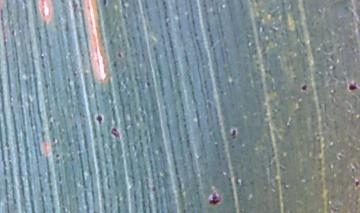tarspot: (207, 191, 221, 206), (346, 80, 360, 92), (110, 126, 121, 139), (94, 113, 104, 126), (228, 127, 238, 138), (144, 79, 152, 89), (301, 83, 308, 94), (101, 1, 109, 8), (354, 180, 360, 188), (116, 51, 122, 59), (10, 28, 15, 37), (48, 66, 55, 71), (59, 1, 65, 4)
